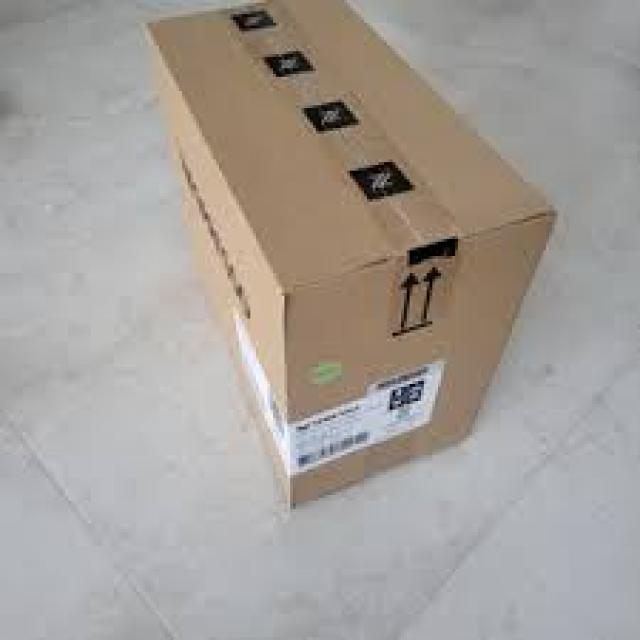box: (144, 0, 558, 511)
